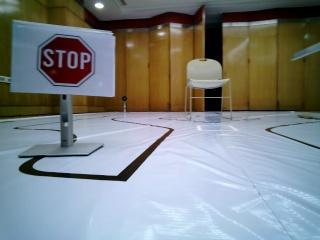stop: (27, 26, 109, 92)
